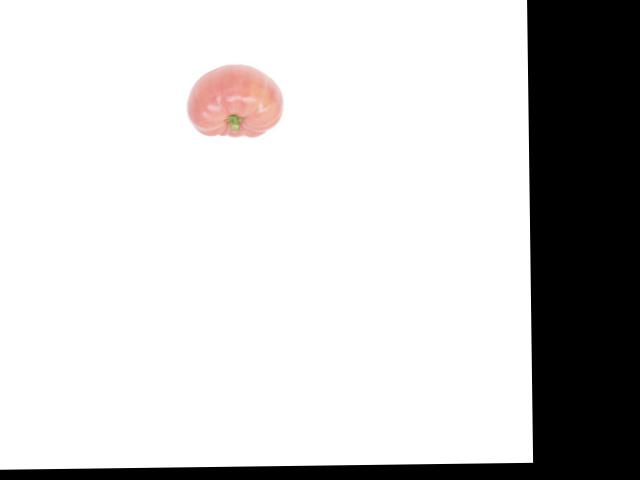tomato: (187, 64, 284, 136)
